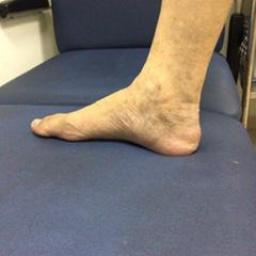Medial View -Right Foot-: (26, 47, 218, 164)
